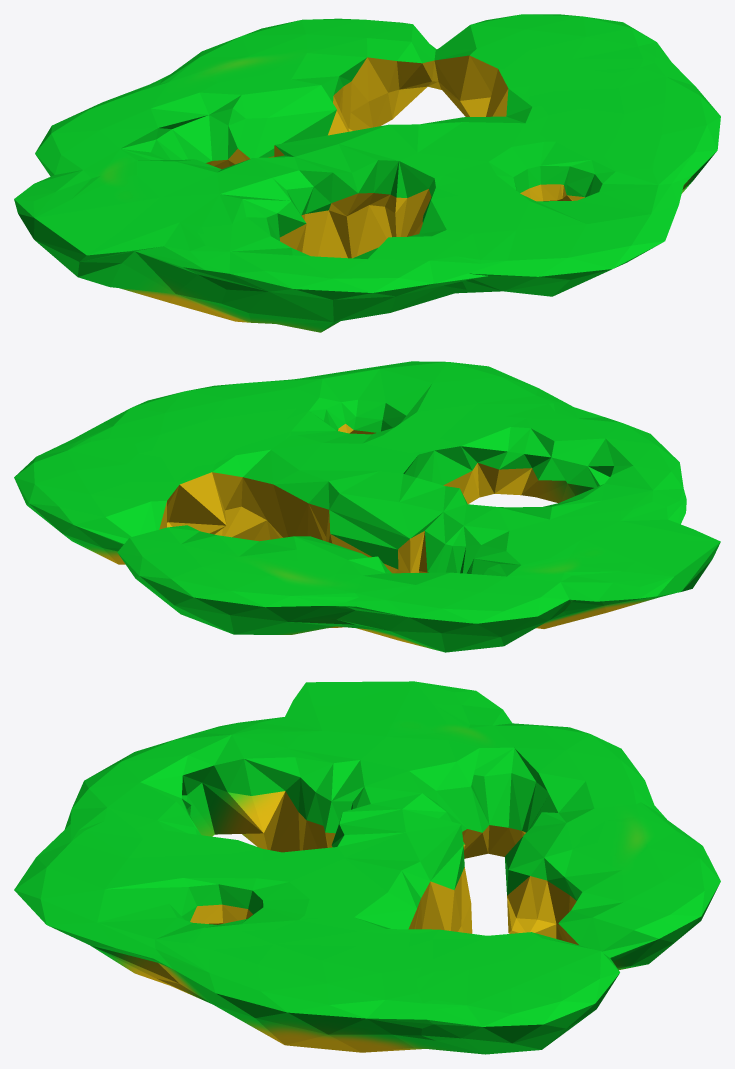
The model's file is land4Hole.obj.
3 renders of one model, top to bottom at view 1: azimuth 30°, elevation 25°; view 2: azimuth 150°, elevation 25°; view 3: azimuth 270°, elevation 25°, orthographic. The views are drawn at different scales.
Visible parts, largest first — view 1: Ico_球體.025; view 2: Ico_球體.025; view 3: Ico_球體.025.
Boxes of the visible parts, left/top/right/bottom form: Ico_球體.025: left=14, top=14, right=720, bottom=332; Ico_球體.025: left=14, top=361, right=720, bottom=652; Ico_球體.025: left=14, top=681, right=720, bottom=1054.
Size of the model in its own units: 503 by 100 by 443.
1 material, 1 textured.
